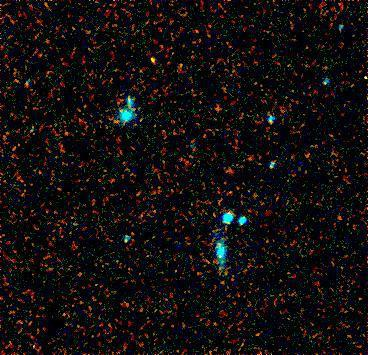star: (140, 50, 170, 80)
